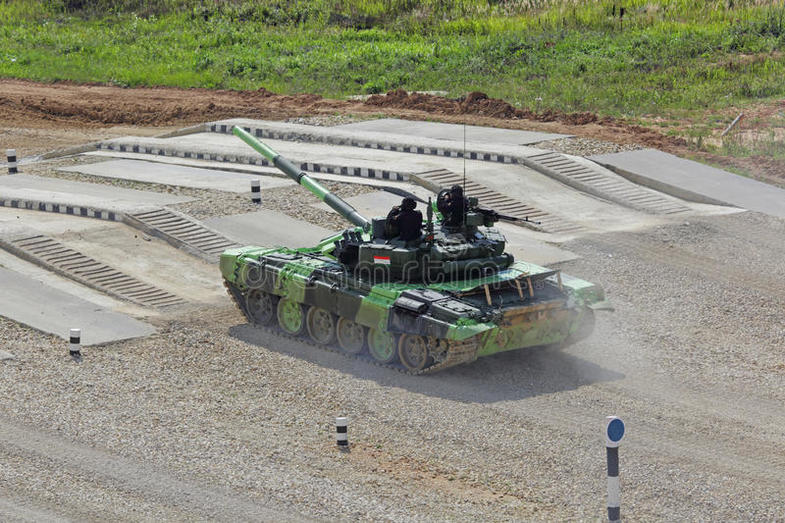t72: (228, 120, 598, 366)
